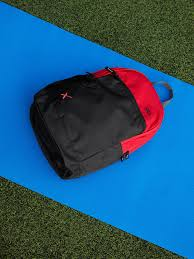backpack: (28, 65, 171, 179)
